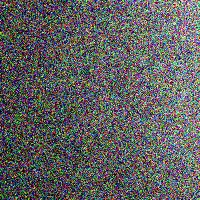pitted_surface: (89, 4, 186, 190), (64, 50, 122, 182)
